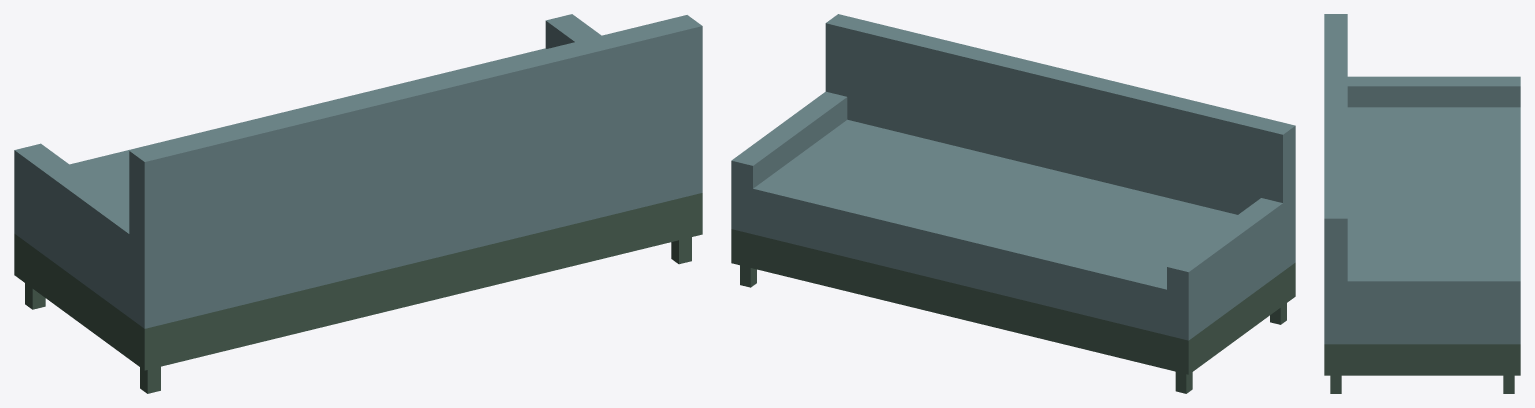
The picture shows the model from 3 angles, left to right: view 1: azimuth 30°, elevation 25°; view 2: azimuth 150°, elevation 25°; view 3: azimuth 270°, elevation 25°; orthographic projection. The views are drawn at different scales.
Parts seen in each view (by area): view 1: back, base, arm-0, cushion, arm-1; view 2: cushion, back, base, arm-0, arm-1; view 3: cushion, arm-1, back, base, arm-0, leg-1-0, leg-1-1.
Boxes of the visible parts, left/top/right/bottom form: back: left=129, top=15, right=702, bottom=328; base: left=14, top=193, right=702, bottom=370; arm-0: left=14, top=143, right=132, bottom=317; cushion: left=69, top=48, right=545, bottom=207; arm-1: left=545, top=14, right=601, bottom=48; cushion: left=753, top=119, right=1237, bottom=335; back: left=825, top=14, right=1295, bottom=271; base: left=731, top=229, right=1295, bottom=374; arm-0: left=1167, top=198, right=1285, bottom=340; arm-1: left=731, top=91, right=847, bottom=234; cushion: left=1347, top=107, right=1520, bottom=271; arm-1: left=1343, top=271, right=1520, bottom=344; back: left=1324, top=14, right=1347, bottom=344; base: left=1324, top=344, right=1520, bottom=375; arm-0: left=1347, top=76, right=1520, bottom=107; leg-1-0: left=1503, top=375, right=1514, bottom=393; leg-1-1: left=1330, top=375, right=1341, bottom=393.
Bounding box in the file's own units: 2.1 × 0.85 × 0.85.
